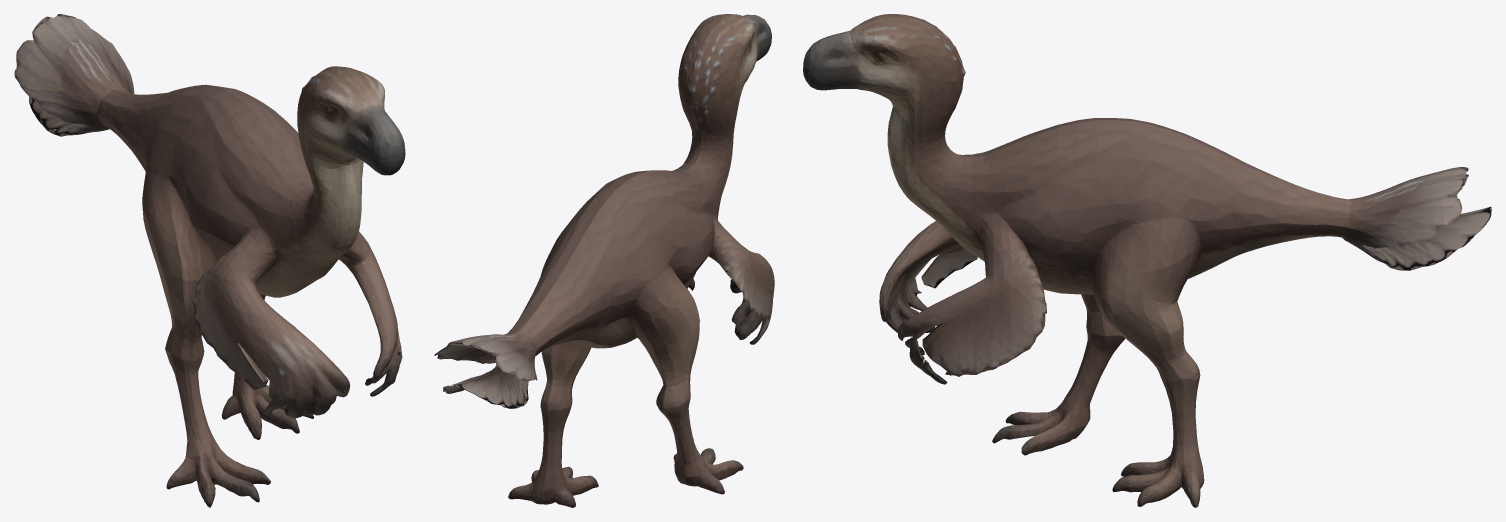
3 views of the same model, side by side, from view 1: azimuth 30°, elevation 25°; view 2: azimuth 150°, elevation 25°; view 3: azimuth 270°, elevation 25° (orthographic). The views are drawn at different scales.
Visible parts, largest first — view 1: geometry_0; view 2: geometry_0; view 3: geometry_0.
Boxes of the visible parts, x1,y1,x2,y2 form: geometry_0: (14,14,405,507); geometry_0: (434,14,774,507); geometry_0: (803,14,1491,507).
Bounding box in the file's own units: 2.46 × 5.74 × 8.
2 materials, 2 textured.
